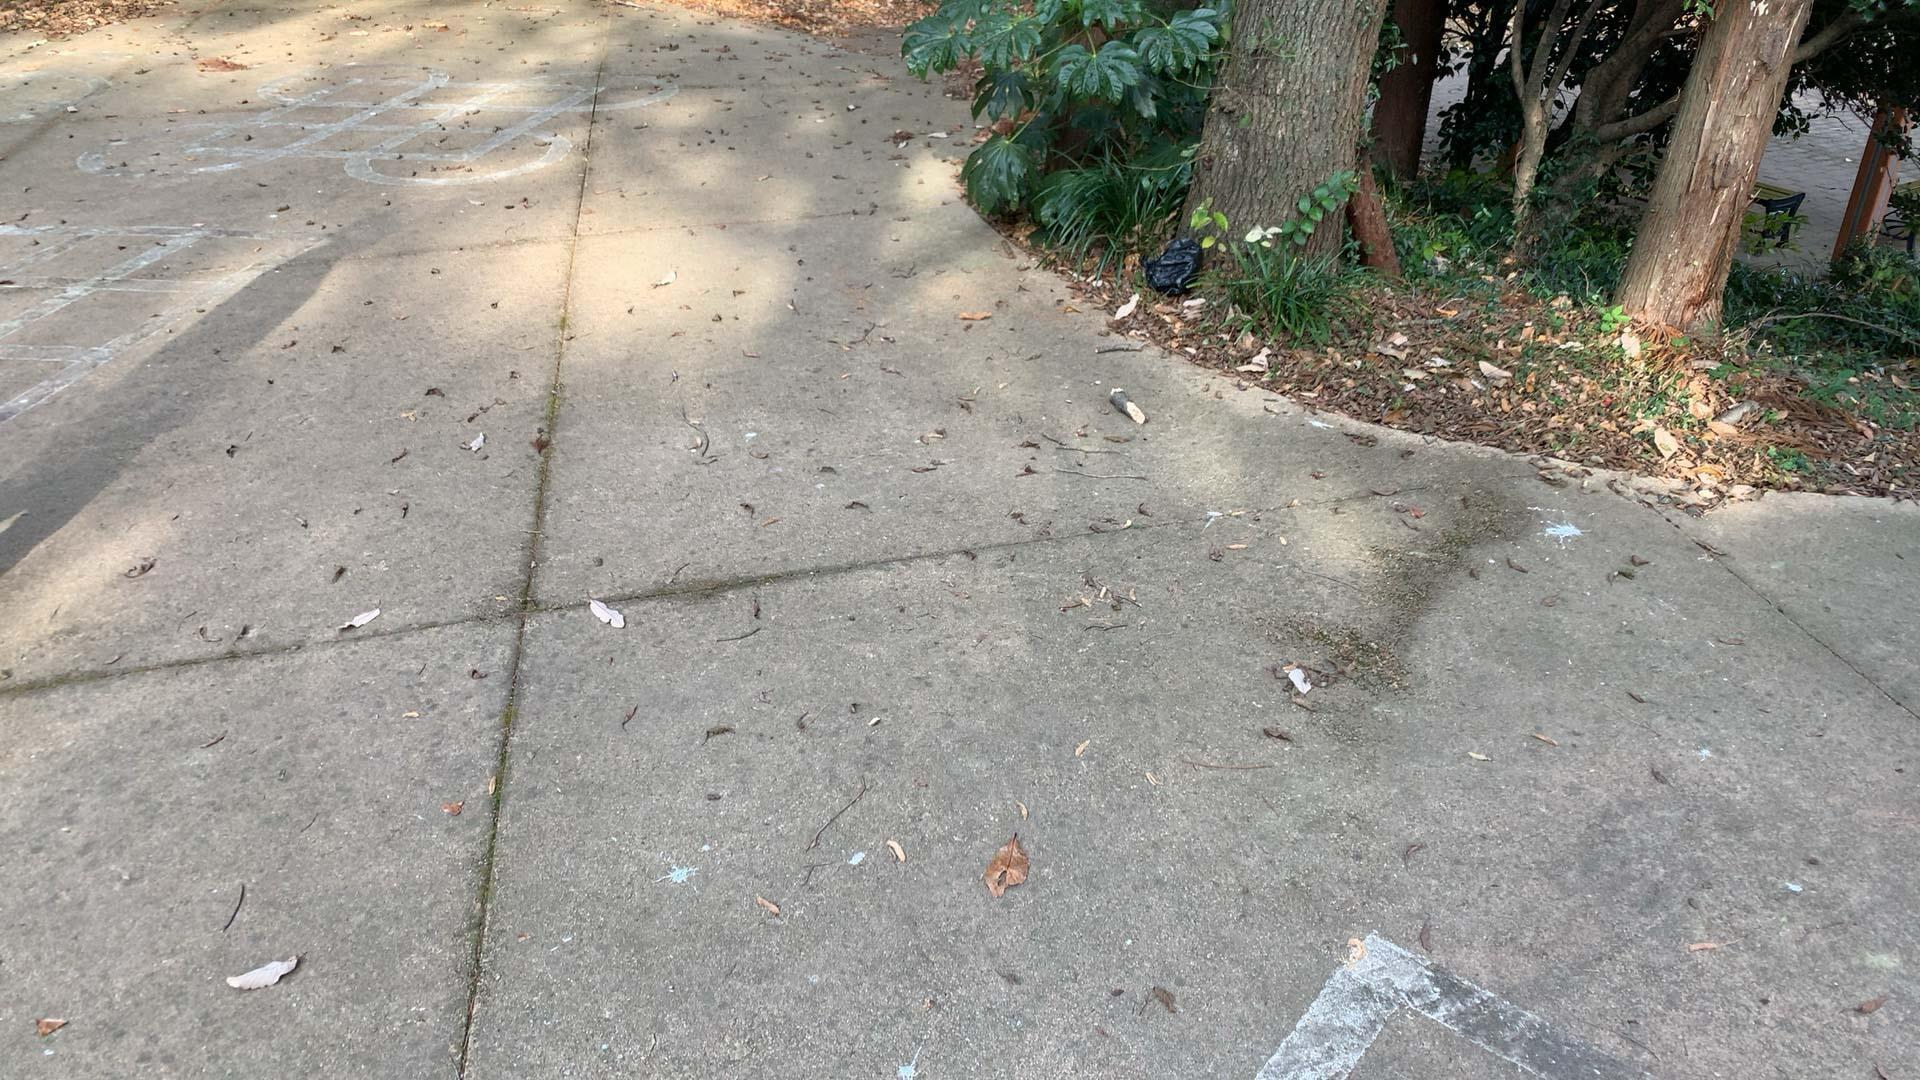black_bag: (1139, 228, 1205, 301)
